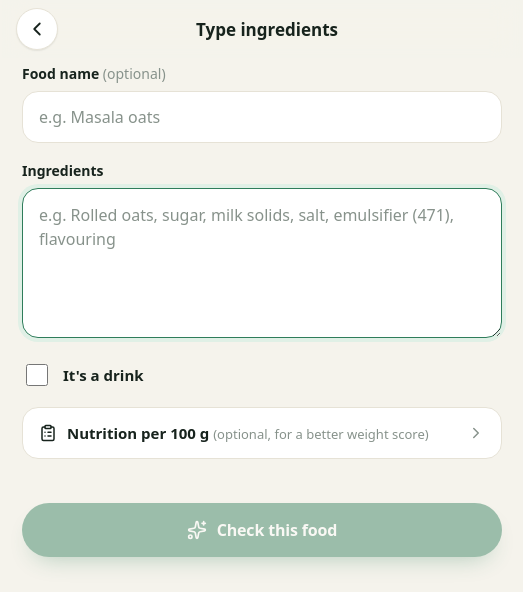
Test: <IngredientsForm /> › needs some ingredients or nutrition before it can be checked
Check: the button "Check this food" is disabled, box [22,503,502,557]
Type "Oats, salt" into the text box labelled "Ingredients".
click(262, 263); type("Oats, salt")  # box [22,188,502,338]
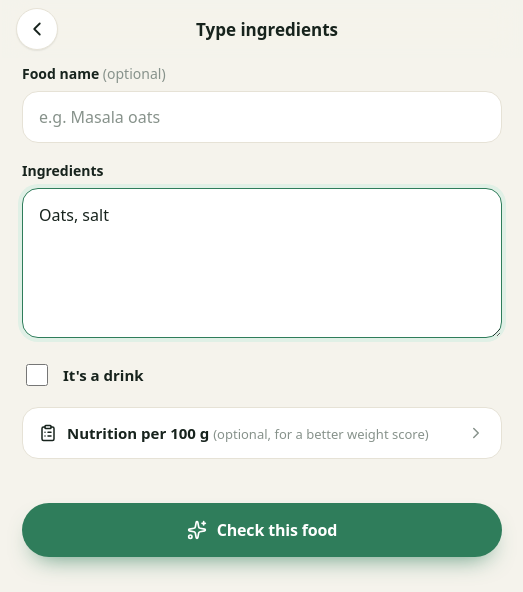
Check: the button "Check this food" is enabled, box [22,503,502,557]
